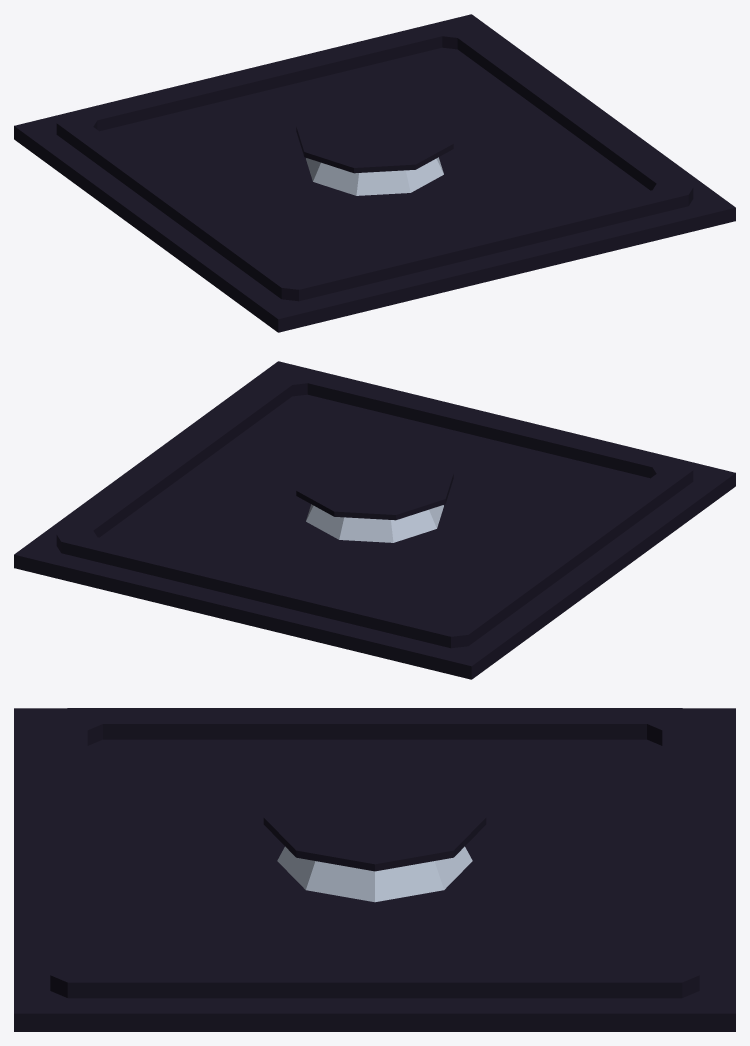
Rendered from stovetop.glb.
3 renders of one model, top to bottom at view 1: azimuth 30°, elevation 25°; view 2: azimuth 150°, elevation 25°; view 3: azimuth 270°, elevation 25°, orthographic. The views are drawn at different scales.
Parts seen in each view (by area): view 1: Cube; view 2: Cube; view 3: Cube.
Part boxes in pixels (x1=…): Cube: x1=14, y1=14, x2=735, y2=332; Cube: x1=14, y1=361, x2=735, y2=679; Cube: x1=14, y1=708, x2=735, y2=1031.
Size of the model in its own units: 0.2842 by 0.027 by 0.2842.
Materials: 1 (1 with a texture image).
